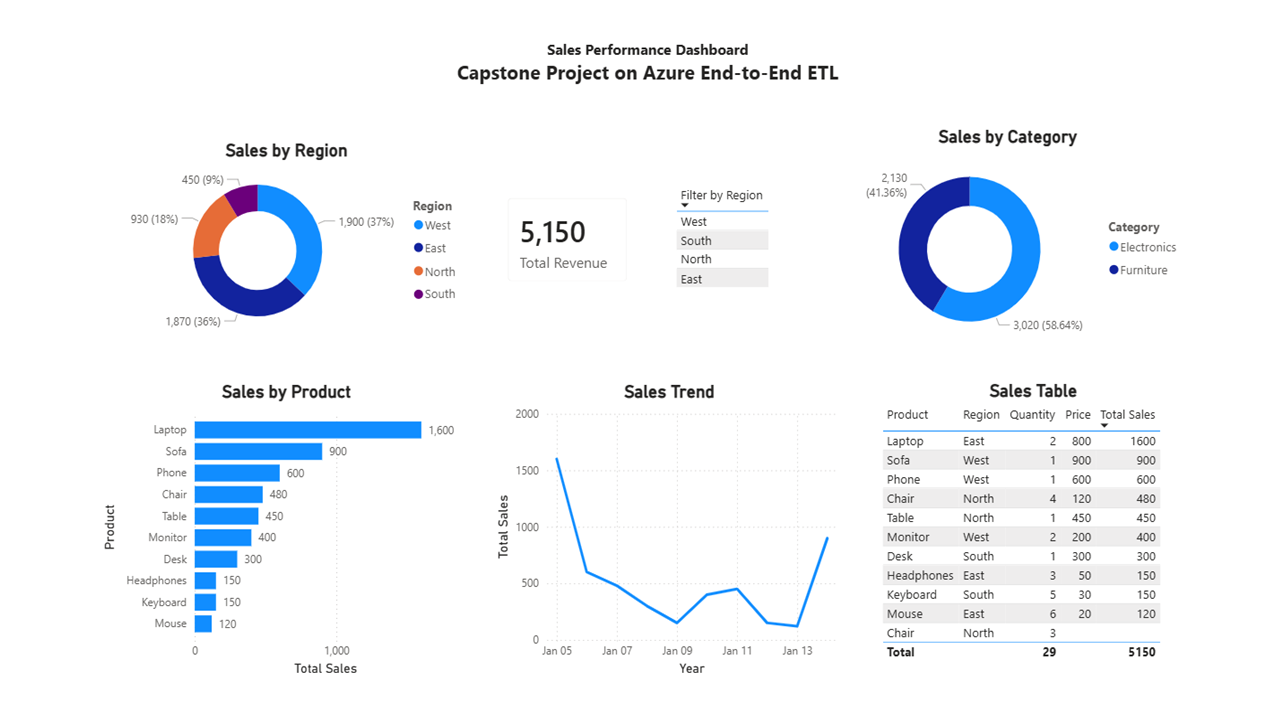

The dashboard page shown, as its layout file describes it:
{"tool":"powerbi","page":{"name":"Page 1","canvas":[1280,720],"ordinal":0},"visuals":[{"type":"cardVisual","fields":{"Data":["sales_curated.Total Sales"]},"box":[467.5,164,167.5,125],"z":0},{"type":"clusteredBarChart","title":"Sales by Product","fields":{"Category":["sales_curated.Product"],"Y":["sales_curated.Total Sales"]},"box":[27.1,381.4,420,327.1],"z":1000},{"type":"donutChart","title":"Sales by Region","fields":{"Category":["sales_curated.Region"],"Y":["sales_curated.Total Sales"]},"box":[27.1,117.1,420,220],"z":2000},{"type":"lineChart","title":"Sales Trend","fields":{"Y":["sales_curated.Total Sales"],"Category":["sales_curated.OrderDate.Variation.Date Hierarchy.Year","sales_curated.OrderDate.Variation.Date Hierarchy.Quarter","sales_curated.OrderDate.Variation.Date Hierarchy.Month","sales_curated.OrderDate.Variation.Date Hierarchy.Day"]},"box":[466.7,381.3,396.7,326.7],"z":3000},{"type":"textbox","box":[393.3,1.7,493.3,75],"z":4000},{"type":"donutChart","title":"Sales by Category","fields":{"Category":["sales_curated.Category"],"Y":["sales_curated.Total Sales"]},"box":[840,102.9,404.3,247.1],"z":5000},{"type":"tableEx","fields":{"Values":["sales_curated.Region"]},"box":[665.7,161.4,135.7,131.4],"z":6000},{"type":"tableEx","title":"Sales Table","fields":{"Values":["sales_curated.Product","sales_curated.Region","Sum(sales_curated.Quantity)","sales_curated.Price","sales_curated.Total Sales"]},"box":[895.7,380,348.6,328.6],"z":7000}]}

Visuals, with their boxes in screenshot pixels (x1, y1, x2, y2), scaled from the page's 1280x720 canvas onto the 1280x720 screenshot:
cardVisual - sales_curated.Total Sales: (left=468, top=164, right=635, bottom=289)
"Sales by Product" clusteredBarChart: (left=27, top=381, right=447, bottom=708)
"Sales by Region" donutChart: (left=27, top=117, right=447, bottom=337)
"Sales Trend" lineChart: (left=467, top=381, right=863, bottom=708)
textbox: (left=393, top=2, right=887, bottom=77)
"Sales by Category" donutChart: (left=840, top=103, right=1244, bottom=350)
tableEx - sales_curated.Region: (left=666, top=161, right=801, bottom=293)
"Sales Table" tableEx: (left=896, top=380, right=1244, bottom=709)
